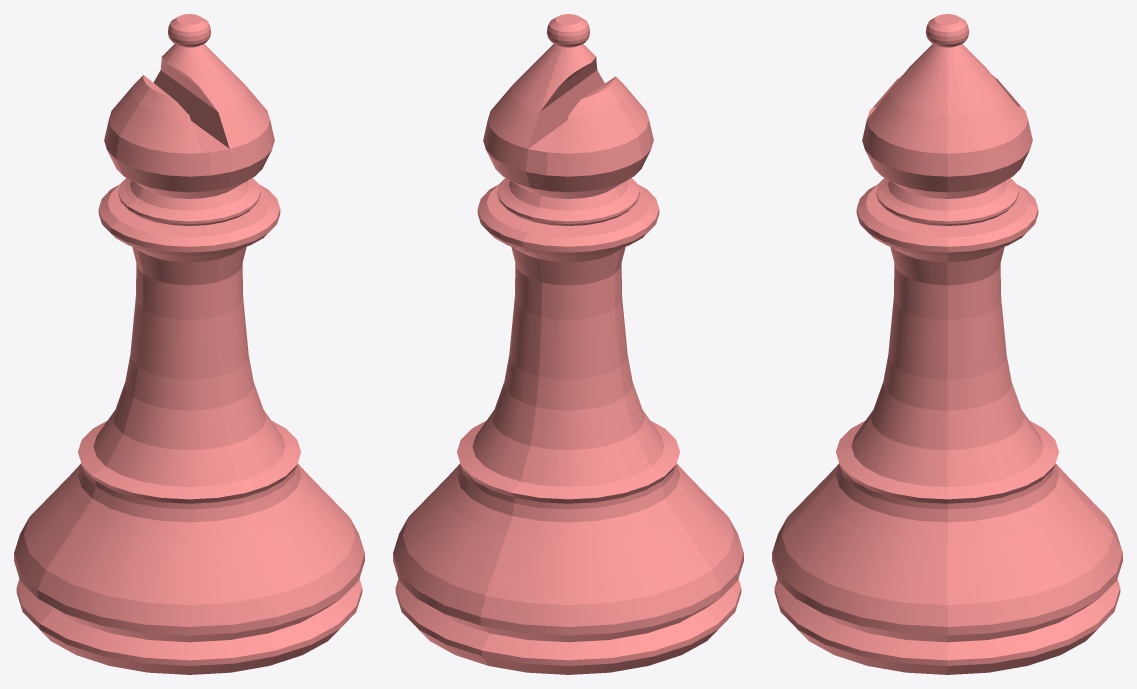
Rendered from bishop.obj.
The picture shows the model from 3 angles, left to right: view 1: azimuth 30°, elevation 25°; view 2: azimuth 150°, elevation 25°; view 3: azimuth 270°, elevation 25°; orthographic projection.
Parts seen in each view (by area): view 1: Mesh1 Model, Mesh2 Model; view 2: Mesh1 Model, Mesh2 Model; view 3: Mesh1 Model, Mesh2 Model.
Boxes of the visible parts, left/top/right/bottom form: Mesh1 Model: left=14, top=44, right=364, bottom=674; Mesh2 Model: left=168, top=14, right=210, bottom=47; Mesh1 Model: left=393, top=44, right=743, bottom=674; Mesh2 Model: left=547, top=14, right=589, bottom=47; Mesh1 Model: left=772, top=44, right=1122, bottom=674; Mesh2 Model: left=926, top=14, right=968, bottom=47.
Bounding box in the file's own units: 0.7815 × 1.45 × 0.7815.
